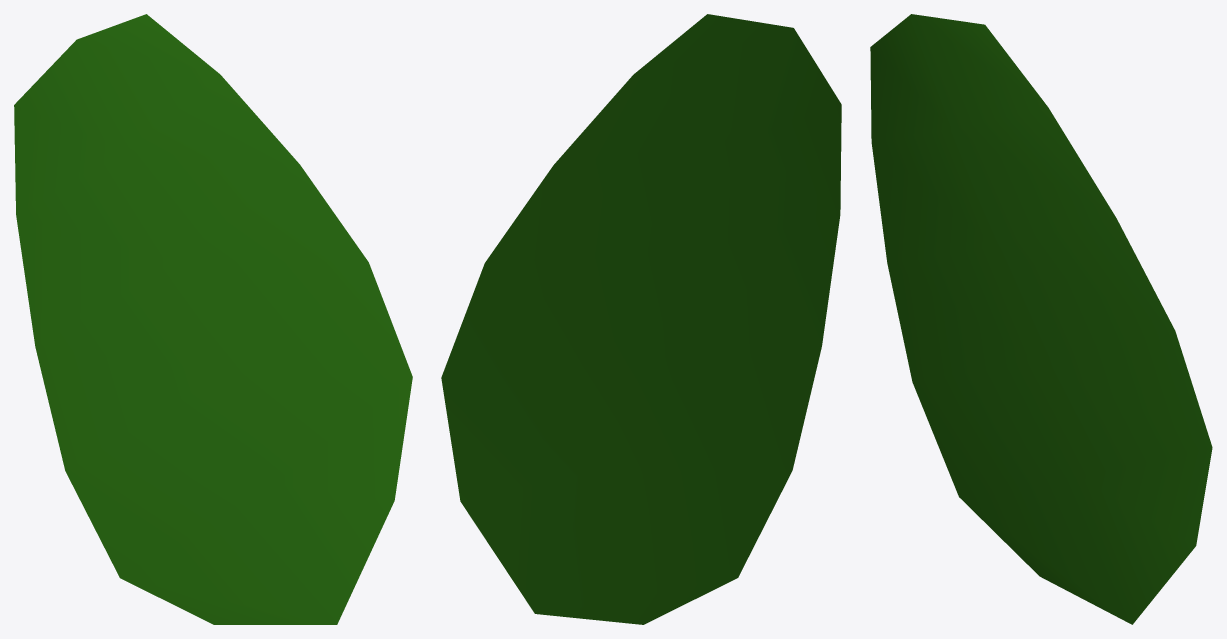
Rendered from lovebird_feather_flight_tertiary_022.001.obj.
3 views of the same model, side by side, from view 1: azimuth 30°, elevation 25°; view 2: azimuth 150°, elevation 25°; view 3: azimuth 330°, elevation 25° (orthographic). The views are drawn at different scales.
Visible parts, largest first — view 1: feather_flight_tertiary_022.001; view 2: feather_flight_tertiary_022.001; view 3: feather_flight_tertiary_022.001.
Boxes of the visible parts, left/top/right/bottom form: feather_flight_tertiary_022.001: left=14, top=14, right=412, bottom=624; feather_flight_tertiary_022.001: left=441, top=14, right=841, bottom=624; feather_flight_tertiary_022.001: left=870, top=14, right=1212, bottom=624.
Bounding box in the file's own units: 0.00472 × 0.00733 × 0.000194.
